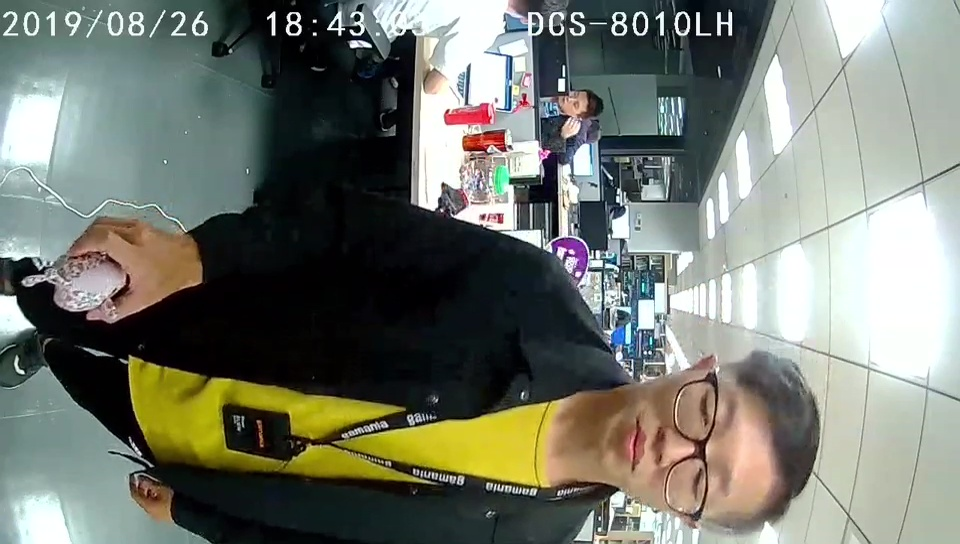pig: (53, 251, 129, 320)
